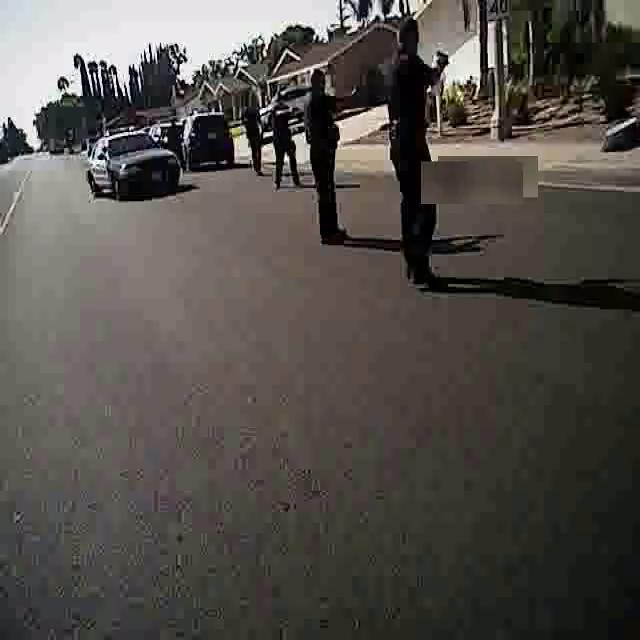gun: (429, 36, 455, 81), (286, 102, 310, 126), (351, 81, 371, 109)
